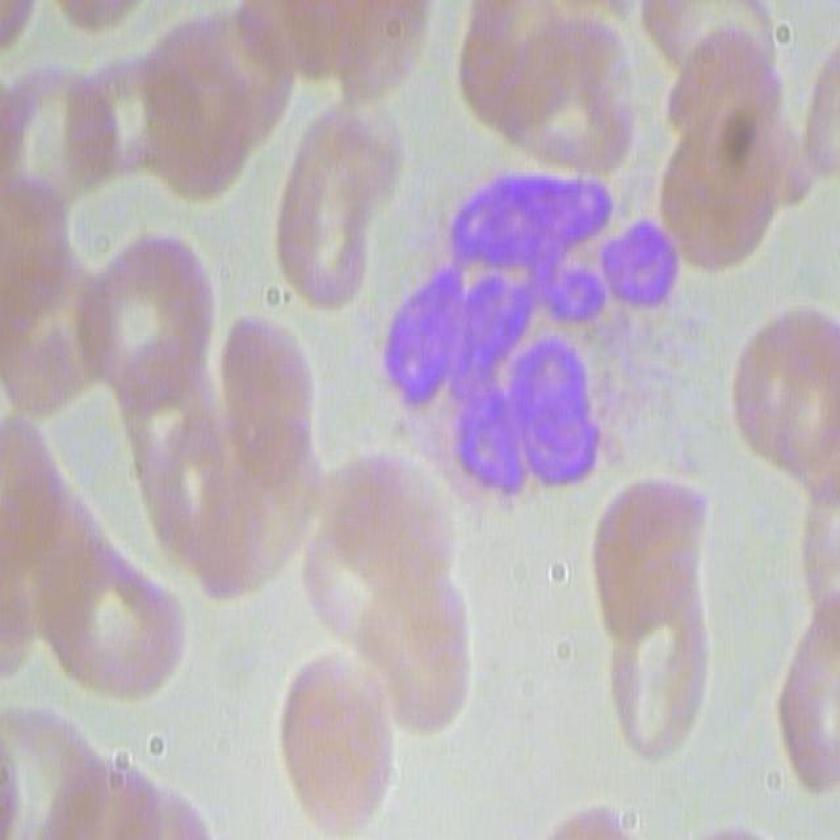eosinophil: (379, 164, 686, 498)
